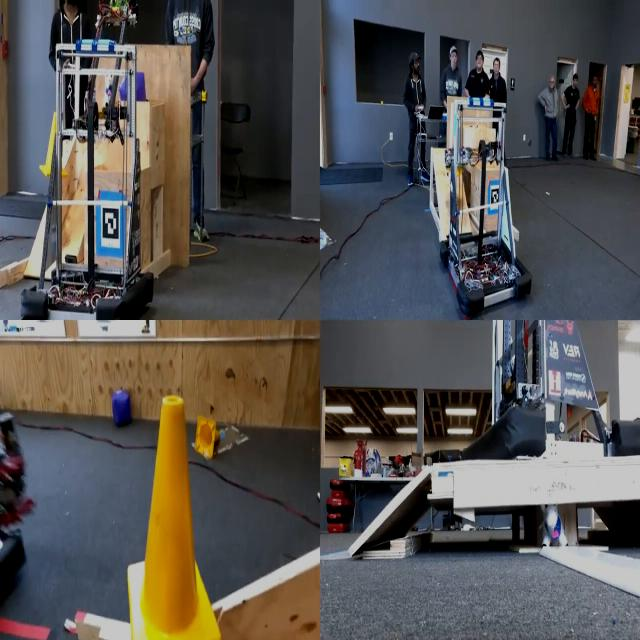frc_cone: (132, 391, 218, 640), (42, 110, 65, 182), (195, 411, 228, 458)
frc_cube: (110, 388, 133, 430)
